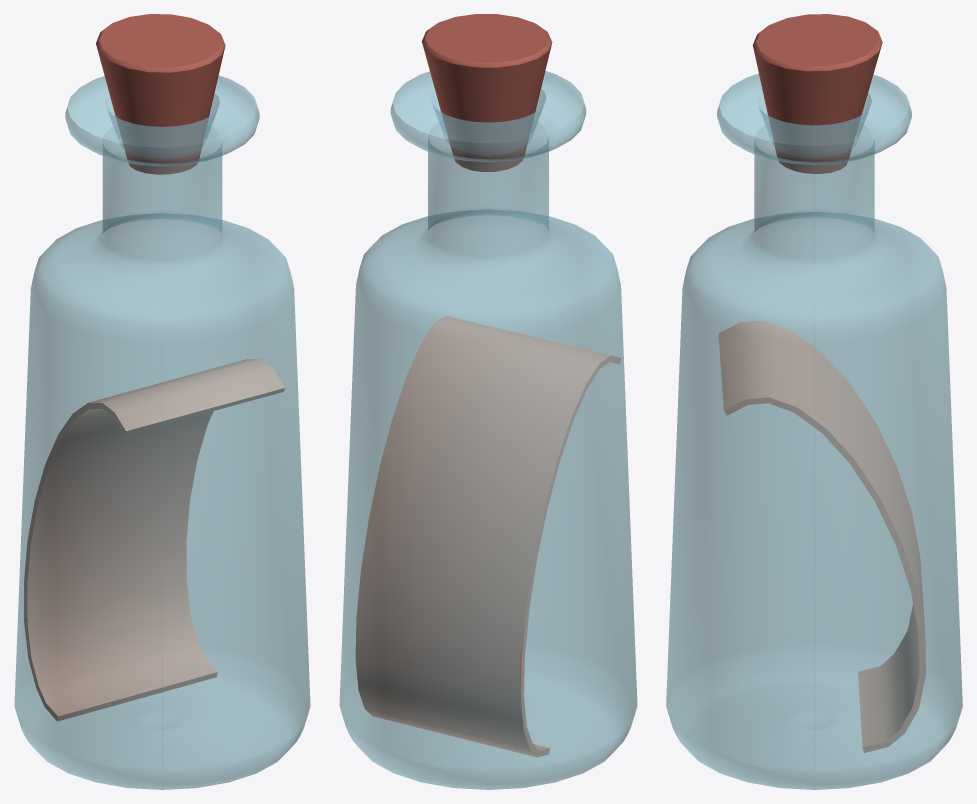
The model's file is BottleAnim.fbx.
The picture shows the model from 3 angles, left to right: view 1: azimuth 30°, elevation 25°; view 2: azimuth 150°, elevation 25°; view 3: azimuth 270°, elevation 25°; orthographic projection.
Parts seen in each view (by area): view 1: Bottle, Paper, Cap; view 2: Bottle, Paper, Cap; view 3: Bottle, Paper, Cap.
Boxes of the visible parts, x1,y1,x2,y2 form: Bottle: [14, 75, 310, 789]; Paper: [24, 359, 284, 721]; Cap: [96, 14, 225, 174]; Bottle: [339, 71, 637, 789]; Paper: [355, 316, 620, 757]; Cap: [422, 14, 552, 171]; Bottle: [666, 73, 962, 789]; Paper: [718, 320, 925, 752]; Cap: [752, 14, 882, 173].
Size of the model in its own units: 90.53 by 235 by 90.53.
